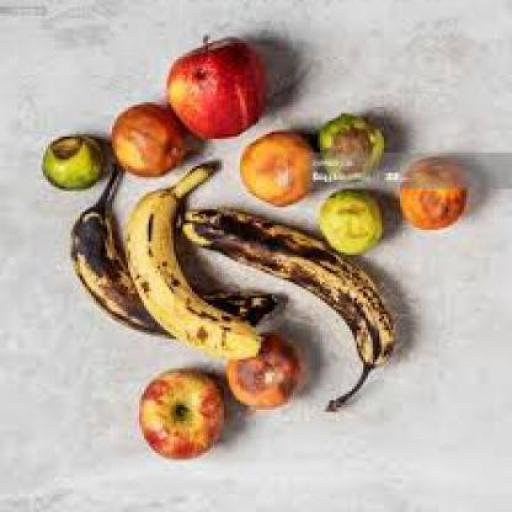biodegradable: (181, 207, 393, 418), (68, 175, 276, 332), (121, 168, 261, 362), (164, 36, 268, 144), (138, 374, 221, 462), (107, 105, 183, 182), (236, 136, 313, 207), (226, 336, 297, 412), (398, 164, 466, 232), (313, 116, 380, 184), (318, 196, 382, 260), (39, 136, 103, 190)
